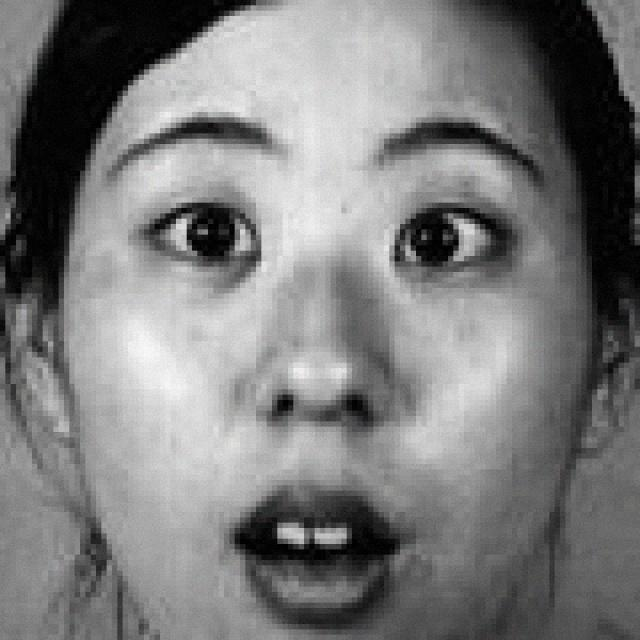surprise: (79, 24, 580, 640)
